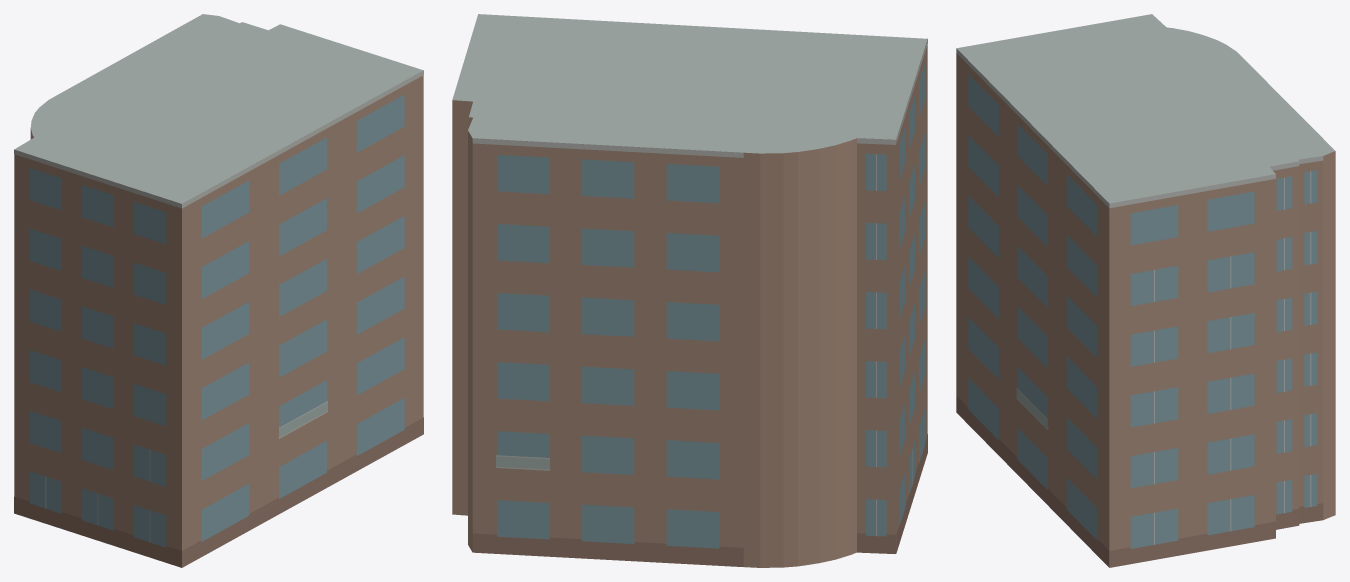
File: survey-upis-32835171.glb
3 renders of one model, left to right at view 1: azimuth 30°, elevation 25°; view 2: azimuth 150°, elevation 25°; view 3: azimuth 270°, elevation 25°, orthographic. The views are drawn at different scales.
Visible parts, largest first — view 1: survey-upis-32835171.tmp; view 2: survey-upis-32835171.tmp; view 3: survey-upis-32835171.tmp.
Boxes of the visible parts, bbox=[...] form: survey-upis-32835171.tmp: bbox=[14, 14, 423, 567]; survey-upis-32835171.tmp: bbox=[452, 14, 927, 567]; survey-upis-32835171.tmp: bbox=[956, 14, 1335, 567].
Size of the model in its own units: 21.45 by 19.2 by 18.12.
